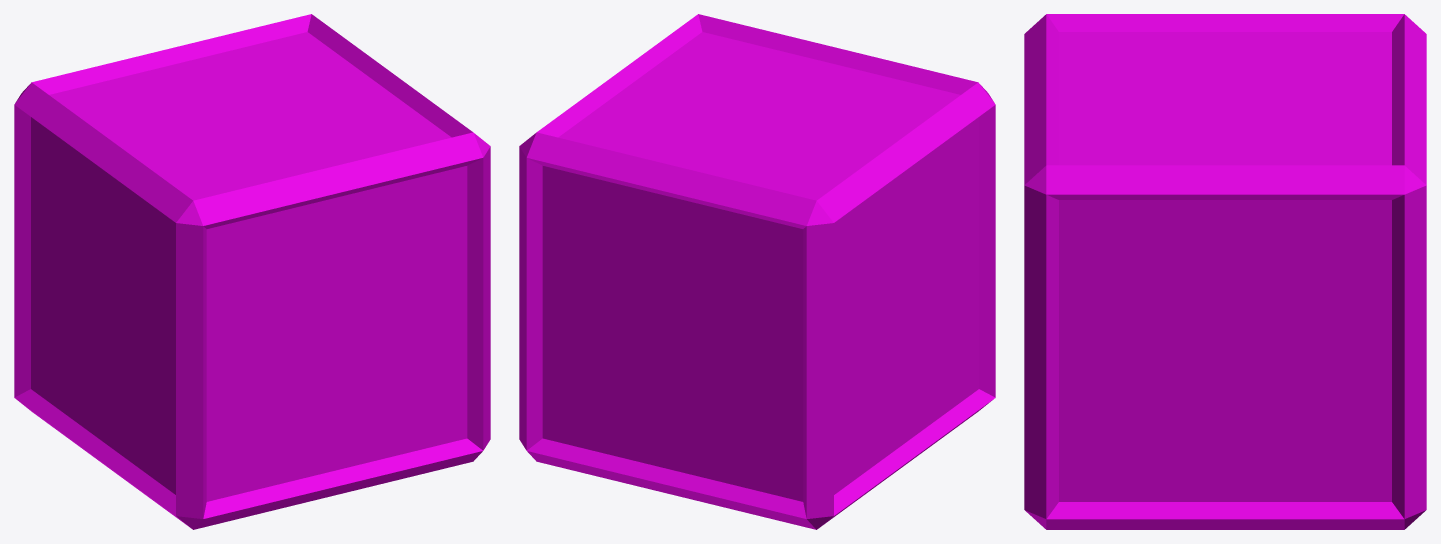
The model's file is SM_Block.fbx.
3 views of the same model, side by side, from view 1: azimuth 30°, elevation 25°; view 2: azimuth 150°, elevation 25°; view 3: azimuth 270°, elevation 25° (orthographic). The views are drawn at different scales.
Parts seen in each view (by area): view 1: pCube1; view 2: pCube1; view 3: pCube1.
Part boxes in pixels (box(x1,y1,x2,y2)): pCube1: box(14, 14, 490, 529); pCube1: box(519, 14, 995, 529); pCube1: box(1024, 14, 1426, 529).
Size of the model in its own units: 21.5 by 21.5 by 21.5.
